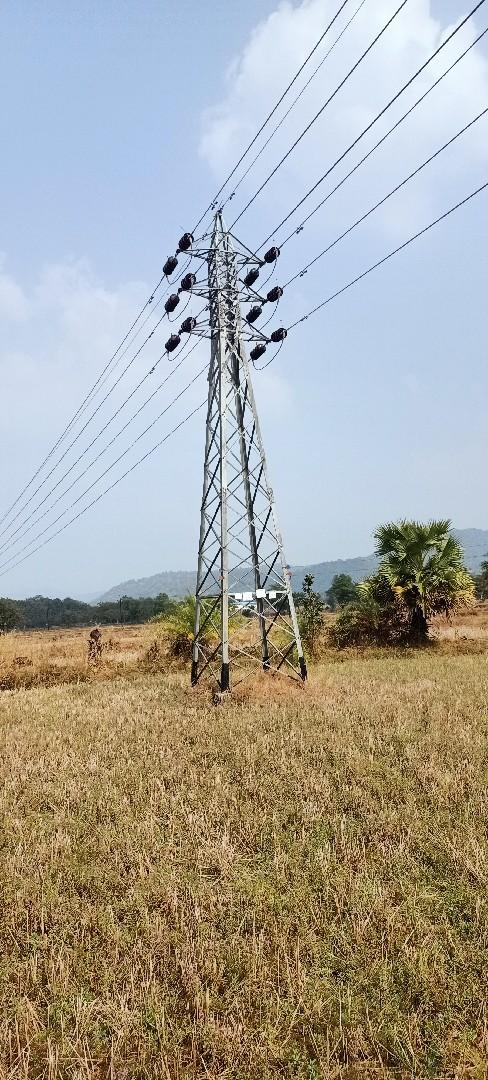GSM Antenna: (172, 208, 306, 654)
